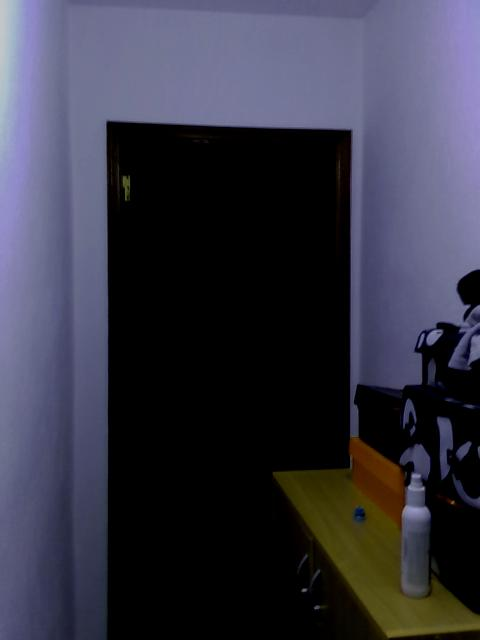open_door: (105, 113, 354, 639)
